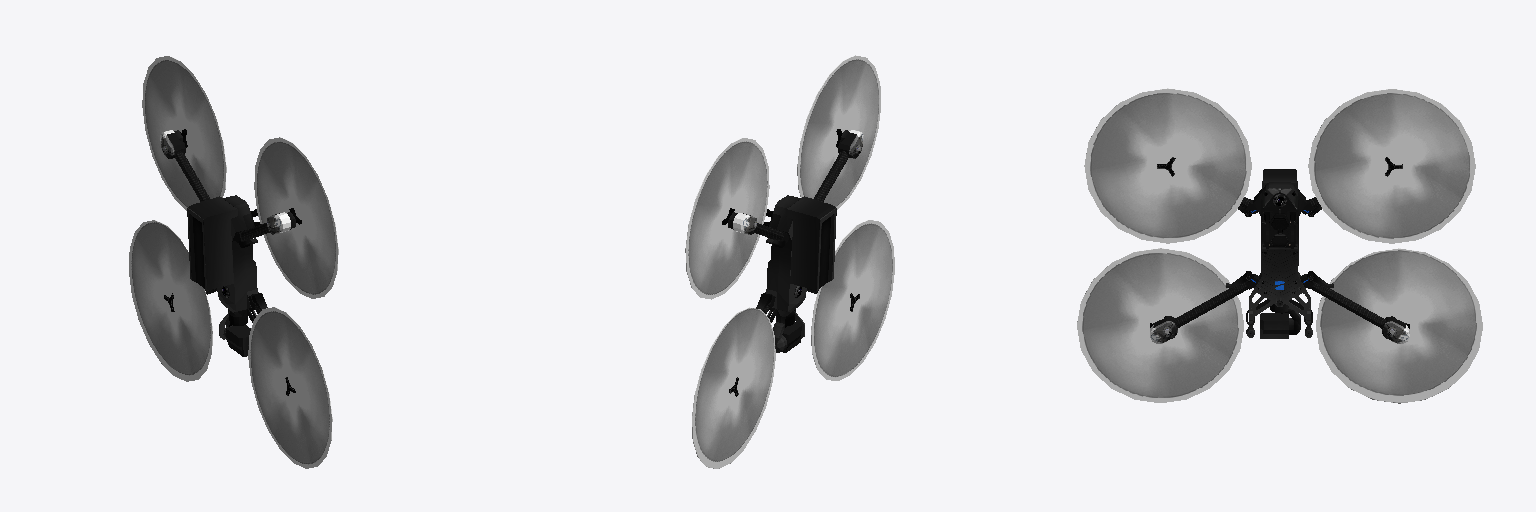
The picture shows the model from 3 angles: view 1: azimuth 30°, elevation 25°; view 2: azimuth 150°, elevation 25°; view 3: azimuth 270°, elevation 25°; orthographic projection.
Parts seen in each view (by area): view 1: X2_lowpoly; view 2: X2_lowpoly; view 3: X2_lowpoly.
Part boxes in pixels (left/top/right/bottom): X2_lowpoly: left=129, top=56, right=338, bottom=468; X2_lowpoly: left=685, top=55, right=894, bottom=468; X2_lowpoly: left=1077, top=88, right=1482, bottom=403.
Bounding box in the file's own units: 0.2212 × 0.5512 × 0.641.
Materials: 1 (1 with a texture image).